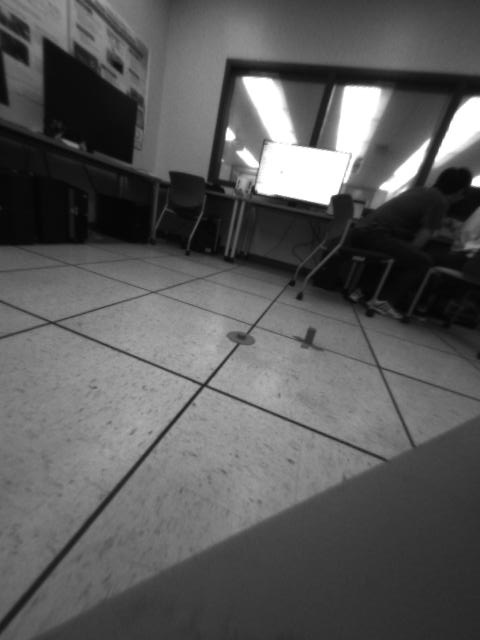X: (290, 327, 326, 351)
